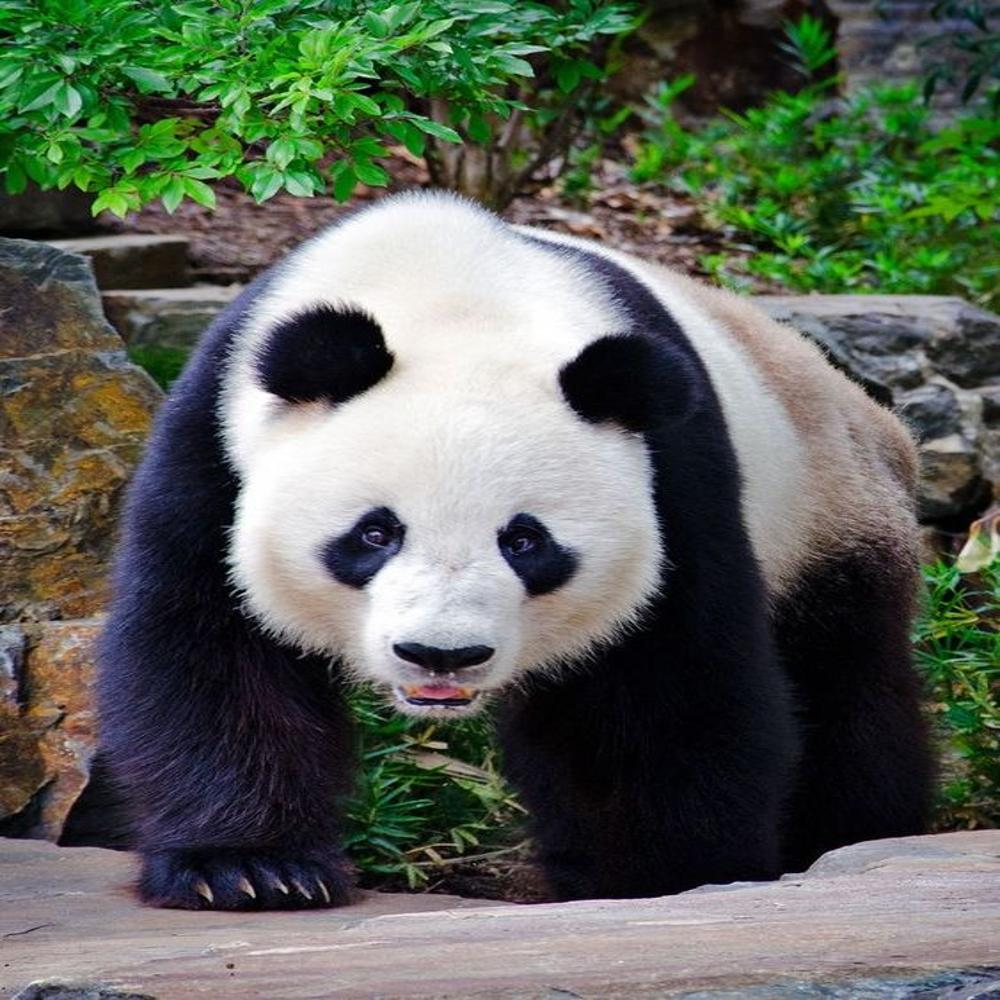panda: (100, 192, 953, 907)
